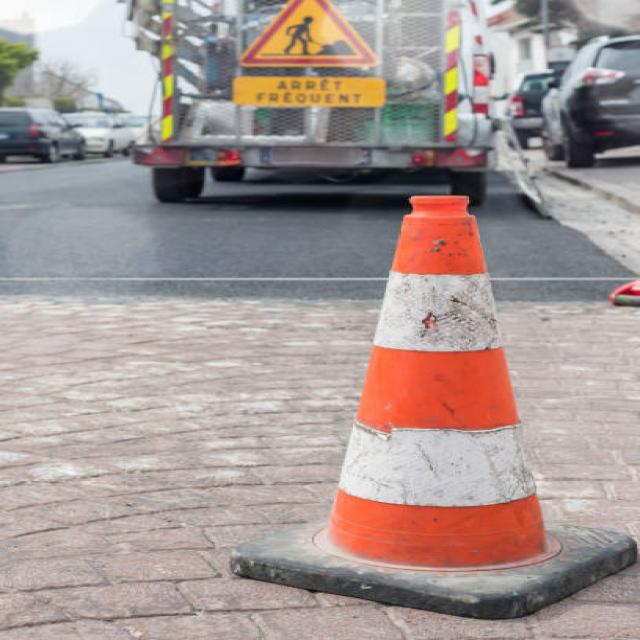Traffic Cone: (219, 164, 640, 640)
